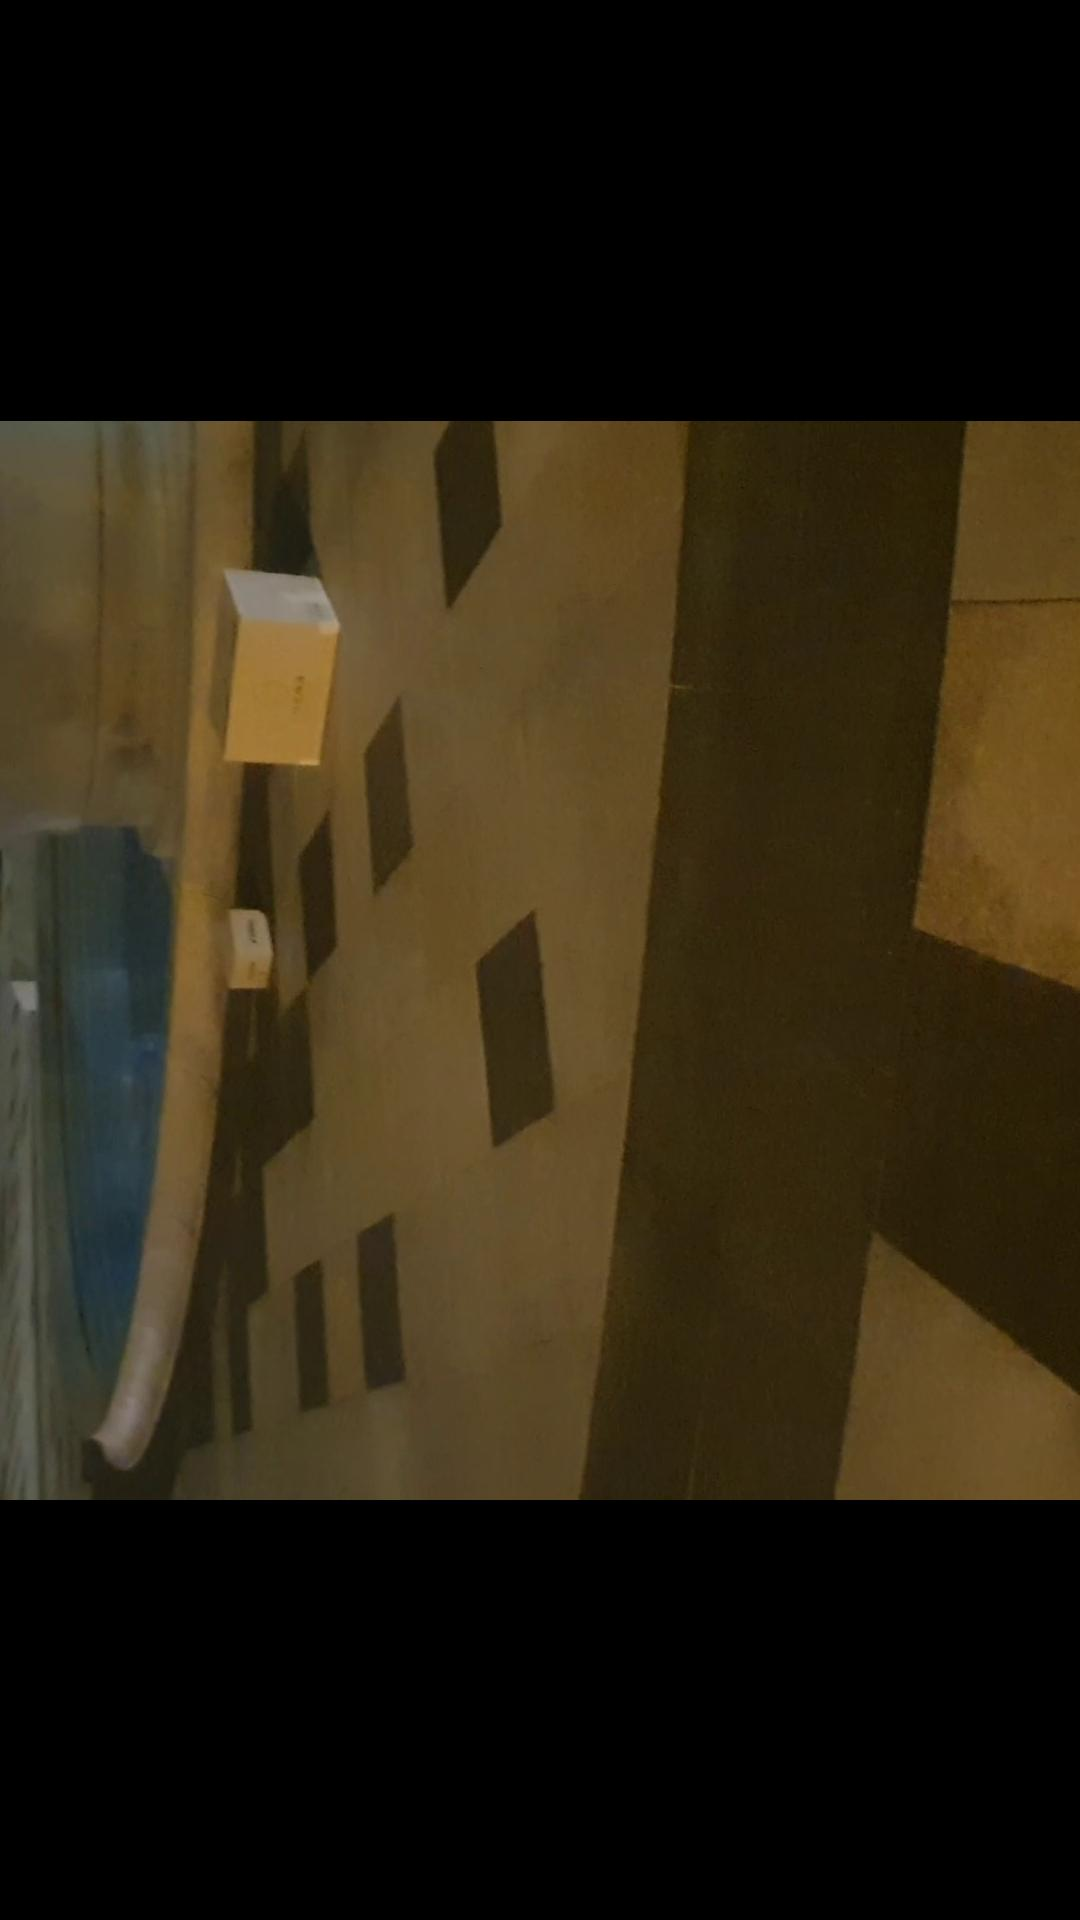Box: (198, 574, 345, 782), (203, 902, 293, 1000)
